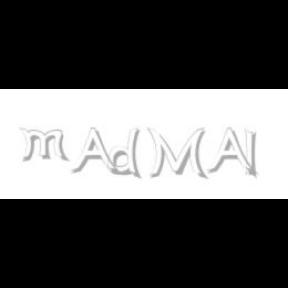A: (70, 128, 118, 176), (206, 128, 254, 176)
M: (146, 128, 206, 180)
d: (108, 128, 144, 180)
l: (245, 128, 261, 180)
m: (18, 128, 70, 162)
